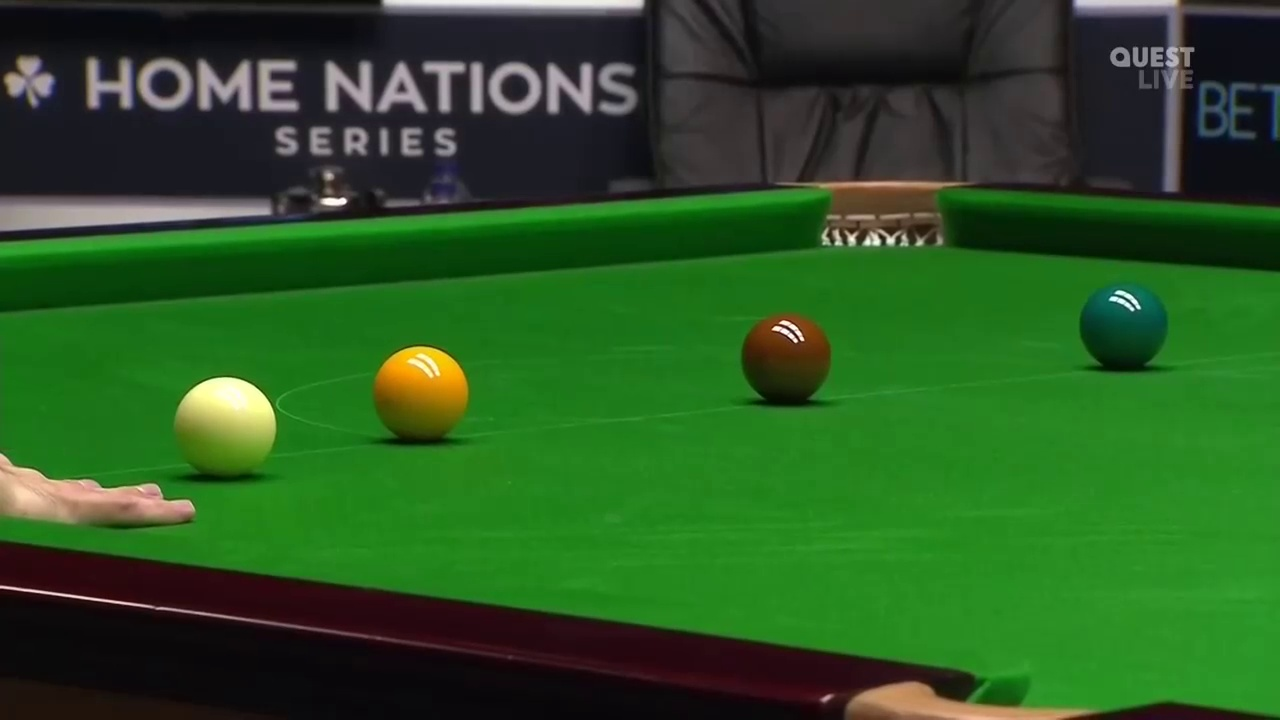brown: (739, 316, 830, 401)
green: (1073, 280, 1170, 369)
white: (168, 375, 276, 478)
yellow: (367, 347, 469, 438)
